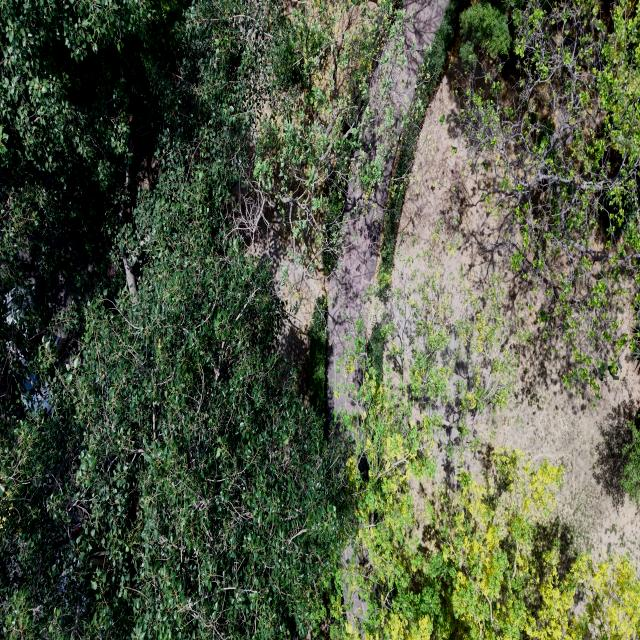DRY_AREA: (391, 66, 639, 569), (392, 69, 639, 566), (242, 0, 447, 391), (326, 0, 446, 415), (326, 0, 445, 411), (327, 1, 444, 411), (473, 358, 639, 564), (231, 183, 325, 397), (282, 1, 393, 180), (247, 200, 325, 396), (265, 218, 325, 397)
PATHWAYS: (327, 0, 446, 411)
VEGETATION_TREE: (0, 0, 639, 639), (0, 1, 348, 639), (344, 280, 639, 639), (331, 307, 639, 639), (459, 1, 639, 394), (345, 453, 639, 639), (236, 1, 401, 274), (340, 272, 515, 456), (375, 0, 465, 295), (593, 405, 639, 509), (459, 0, 510, 64), (308, 299, 325, 413), (620, 420, 639, 506)
